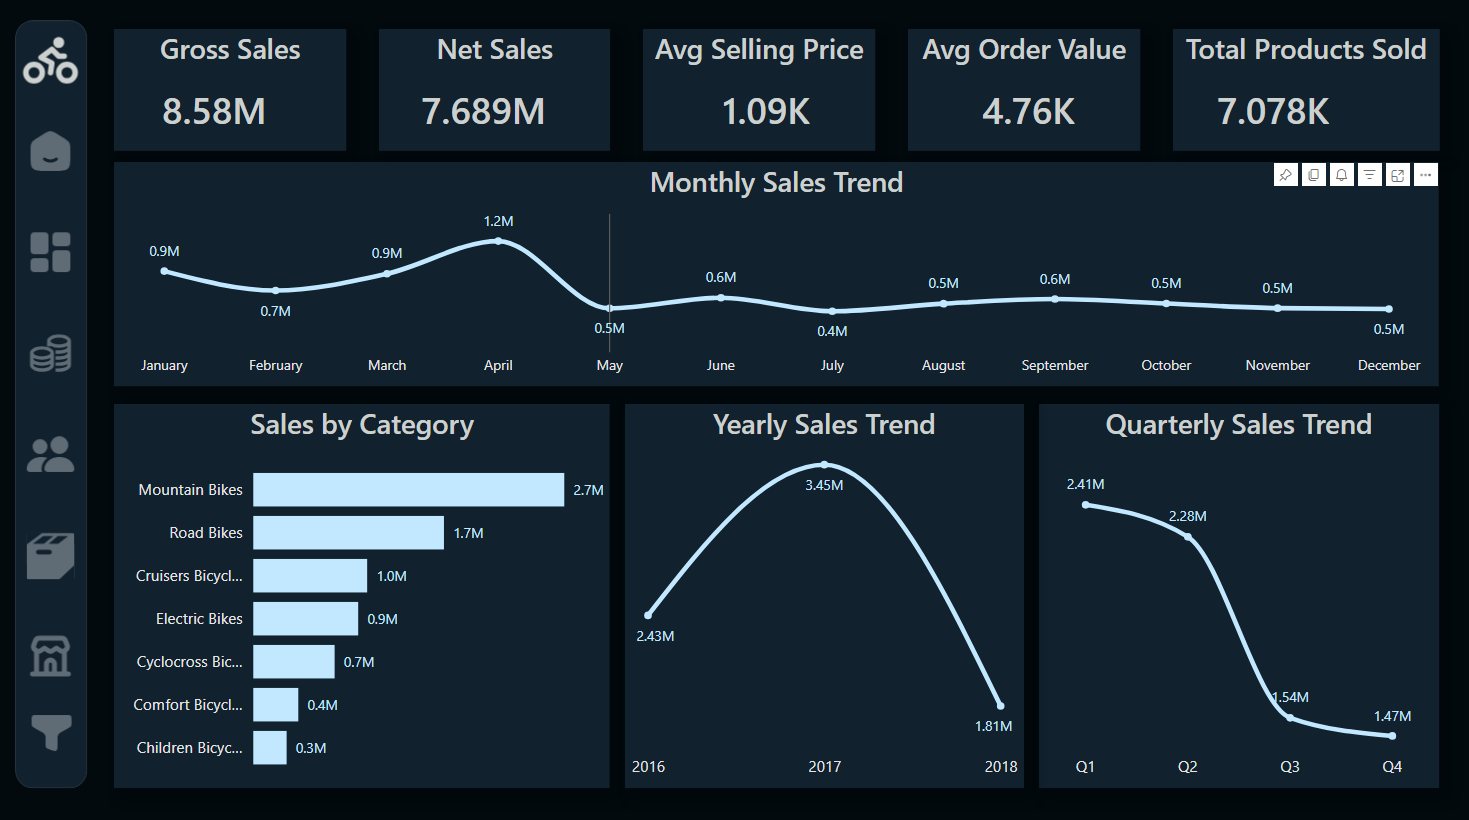

Layout of this report page (visuals, bound fields, positions):
{"tool":"powerbi","page":{"name":"Sales","canvas":[1280,720],"ordinal":2},"visuals":[{"type":"shape","box":[14.1,20.6,63,668.3],"z":0},{"type":"actionButton","box":[20.2,193.3,49.5,58.5],"z":1000},{"type":"actionButton","box":[20.2,281.9,49.5,57.4],"z":2000},{"type":"actionButton","box":[20.2,369.5,49.5,57.4],"z":3000},{"type":"actionButton","box":[20.2,545.6,49.5,57.4],"z":4000},{"type":"actionButton","box":[20.2,457,49.5,58.5],"z":5000},{"type":"actionButton","box":[20.2,105.8,49.5,57.4],"z":6000},{"type":"actionButton","box":[12.4,23.6,65.2,66.4],"z":7000},{"type":"cardVisual","title":"Net Sales","fields":{"Data":["All-Measure.Total Sales"]},"box":[330.3,28.7,200.9,105.6],"z":8000},{"type":"cardVisual","title":"Avg Selling Price","fields":{"Data":["All-Measure.Average Selling Price"]},"box":[559.6,28.7,202,105.6],"z":9000},{"type":"cardVisual","title":"Total Products Sold","fields":{"Data":["All-Measure.Products Sold"]},"box":[1020.6,28.7,231.9,105.6],"z":10000},{"type":"cardVisual","title":"Gross Sales","fields":{"Data":["All-Measure.Gross Sales"]},"box":[99.9,28.7,202,105.6],"z":11000},{"type":"cardVisual","title":"Avg Order Value","fields":{"Data":["All-Measure.Avg Order Value"]},"box":[790.1,28.7,202,105.6],"z":12000},{"type":"lineChart","title":"Monthly Sales Trend","fields":{"Category":["Calendar.Date.Variation.Date Hierarchy.Month"],"Y":["All-Measure.Total Sales"]},"box":[100,144.7,1152.4,194.7],"z":13000},{"type":"barChart","title":"Sales by Category","fields":{"Y":["All-Measure.Total Sales"],"Category":["Categories.category_name"]},"box":[100,355.2,431.5,334.1],"z":14000},{"type":"lineChart","title":"Quarterly Sales Trend","fields":{"Y":["All-Measure.Total Sales"],"Category":["Calendar.Quarter"]},"box":[904.6,354.7,347.8,334.1],"z":15000},{"type":"lineChart","title":"Yearly Sales Trend","fields":{"Y":["All-Measure.Total Sales"],"Category":["Calendar.Year"]},"box":[544.7,354.7,346.7,334.1],"z":16000},{"type":"actionButton","box":[20.8,612.8,49.7,56.7],"z":16001}]}

Visuals, with their boxes in screenshot pixels (x1, y1, x2, y2), scaled from the page's 1280x720 canvas onto the 1469x820 screenshot:
shape: <box>16,23,88,785</box>
actionButton: <box>23,220,80,287</box>
actionButton: <box>23,321,80,386</box>
actionButton: <box>23,421,80,486</box>
actionButton: <box>23,621,80,687</box>
actionButton: <box>23,520,80,587</box>
actionButton: <box>23,120,80,186</box>
actionButton: <box>14,27,89,102</box>
"Net Sales" cardVisual: <box>379,33,610,153</box>
"Avg Selling Price" cardVisual: <box>642,33,874,153</box>
"Total Products Sold" cardVisual: <box>1171,33,1437,153</box>
"Gross Sales" cardVisual: <box>115,33,346,153</box>
"Avg Order Value" cardVisual: <box>907,33,1139,153</box>
"Monthly Sales Trend" lineChart: <box>115,165,1437,387</box>
"Sales by Category" barChart: <box>115,405,610,785</box>
"Quarterly Sales Trend" lineChart: <box>1038,404,1437,784</box>
"Yearly Sales Trend" lineChart: <box>625,404,1023,784</box>
actionButton: <box>24,698,81,762</box>
